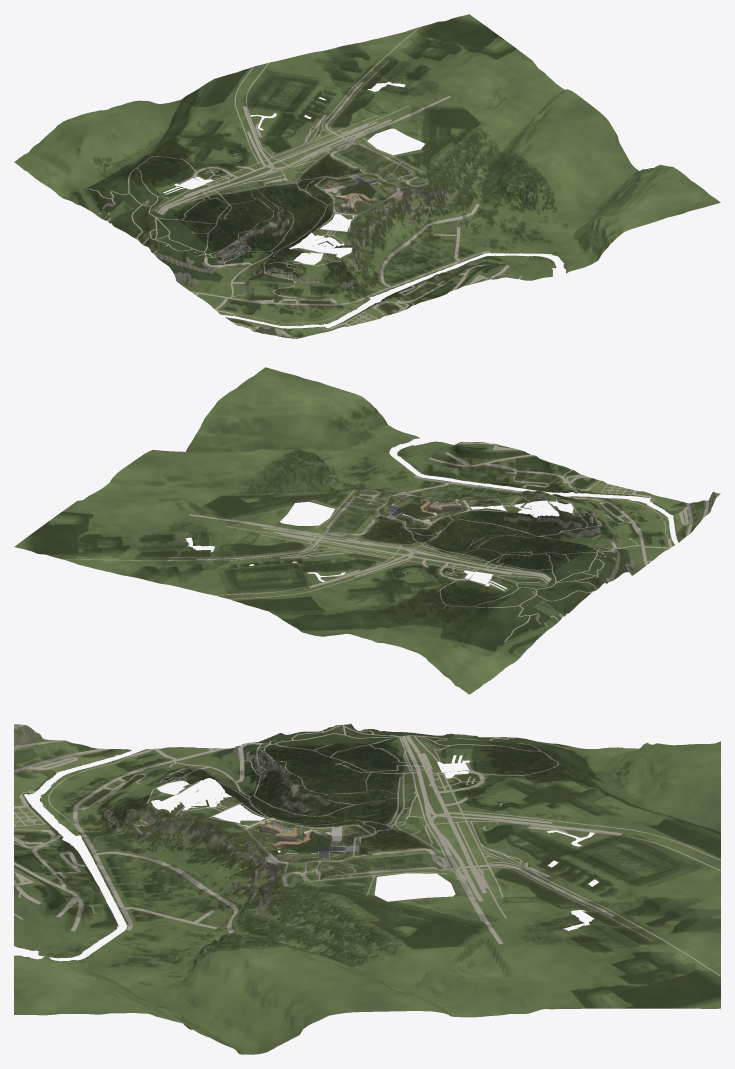
File: authored-near.glb
The picture shows the model from 3 angles, top to bottom: view 1: azimuth 30°, elevation 25°; view 2: azimuth 150°, elevation 25°; view 3: azimuth 270°, elevation 25°; orthographic projection. The views are drawn at different scales.
Parts seen in each view (by area): view 1: R152_FORECOURT_0, R152_PATH_34122543, R325_NORTH_RUIN_CENTRAL_COURT; view 2: R152_FORECOURT_0, R152_PATH_34122543, R325_NORTH_RUIN_CENTRAL_COURT; view 3: R152_FORECOURT_0, R152_PATH_34122543, R325_NORTH_RUIN_CENTRAL_COURT, R325_NORTH_RUIN_RAISED_PLATFORM.
Boxes of the visible parts, x1=… form: R152_FORECOURT_0: x1=14, y1=14, x2=720, y2=338; R152_PATH_34122543: x1=87, y1=27, x2=522, y2=338; R325_NORTH_RUIN_CENTRAL_COURT: x1=301, y1=163, x2=421, y2=220; R152_FORECOURT_0: x1=14, y1=367, x2=718, y2=694; R152_PATH_34122543: x1=63, y1=442, x2=720, y2=641; R325_NORTH_RUIN_CENTRAL_COURT: x1=357, y1=492, x2=476, y2=537; R152_FORECOURT_0: x1=14, y1=724, x2=720, y2=1054; R152_PATH_34122543: x1=14, y1=723, x2=720, y2=976; R325_NORTH_RUIN_CENTRAL_COURT: x1=240, y1=820, x2=372, y2=897; R325_NORTH_RUIN_RAISED_PLATFORM: x1=253, y1=822, x2=365, y2=871.
Bounding box in the file's own units: 1150 × 94.37 × 1100.
Materials: 43 (15 with a texture image).
